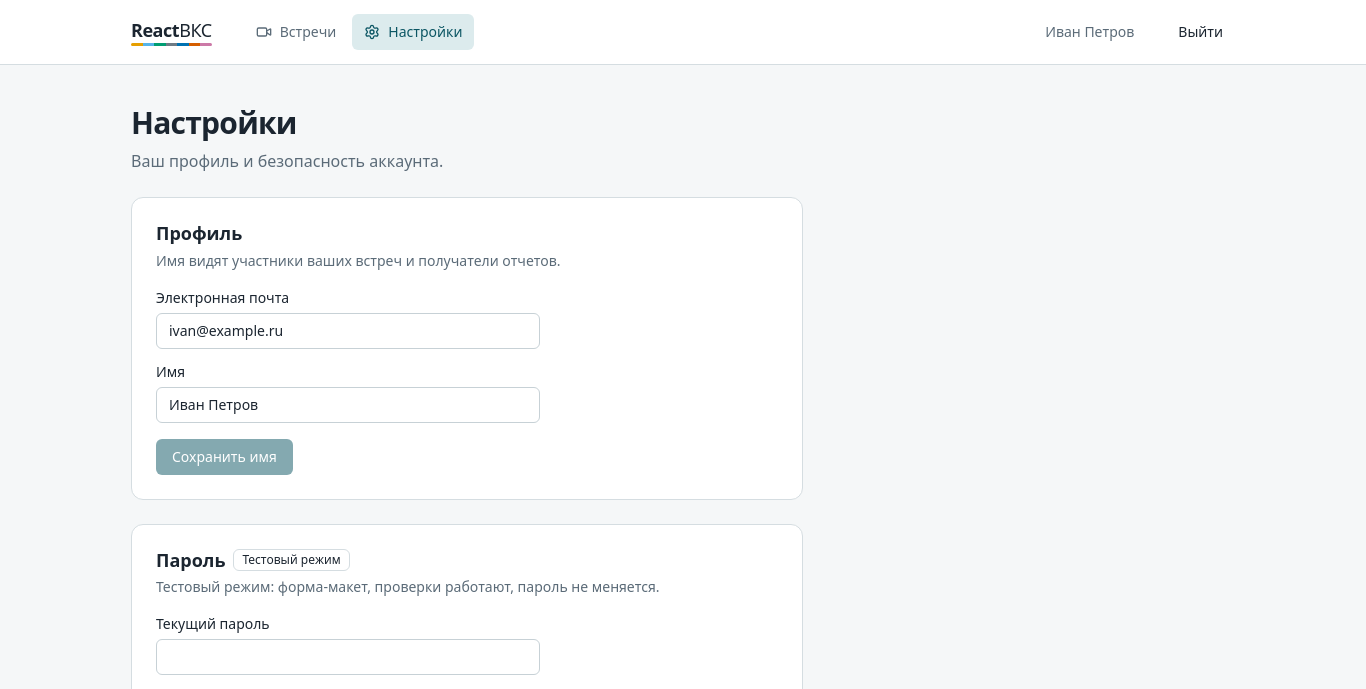
Test: профиль › PATCH /users/me меняет имя и обновляет шапку
Replace the text in the field labelled "Имя" with "Иван Сидоров" at (348, 404), box [156,386,540,422]
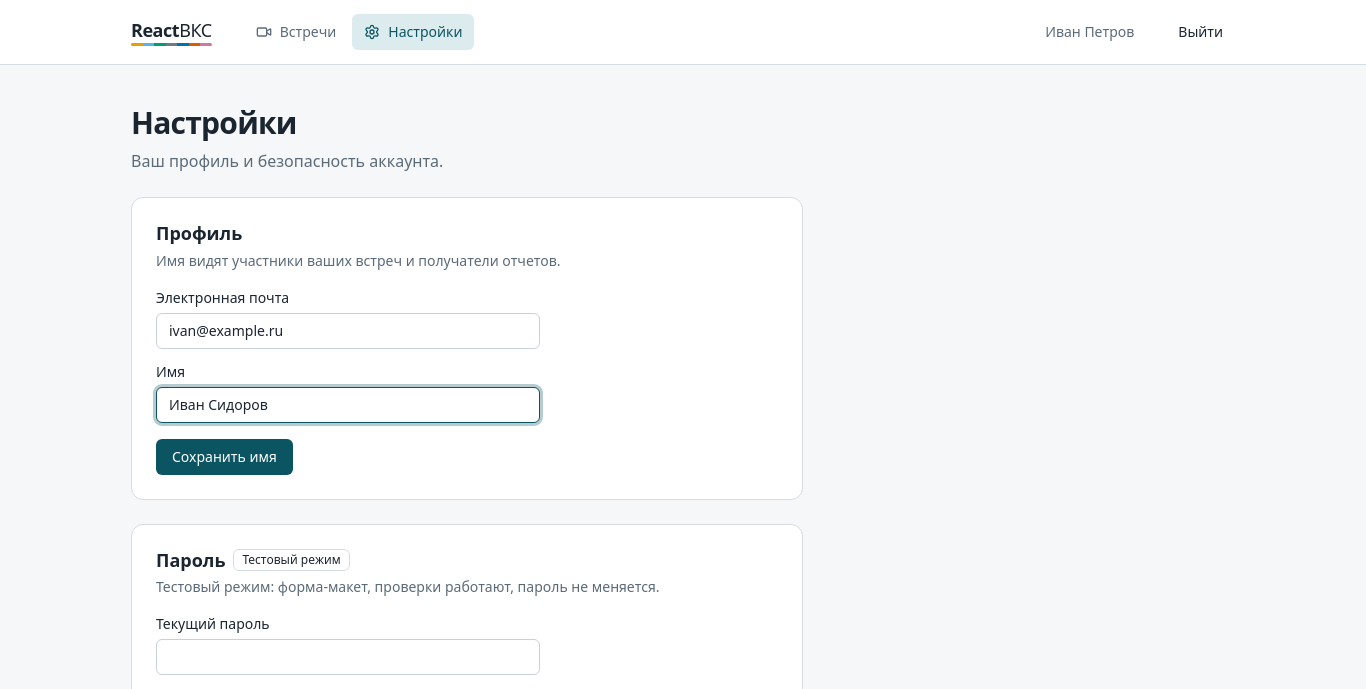
Click the button "Сохранить имя" at (224, 456), box [156,438,293,474]
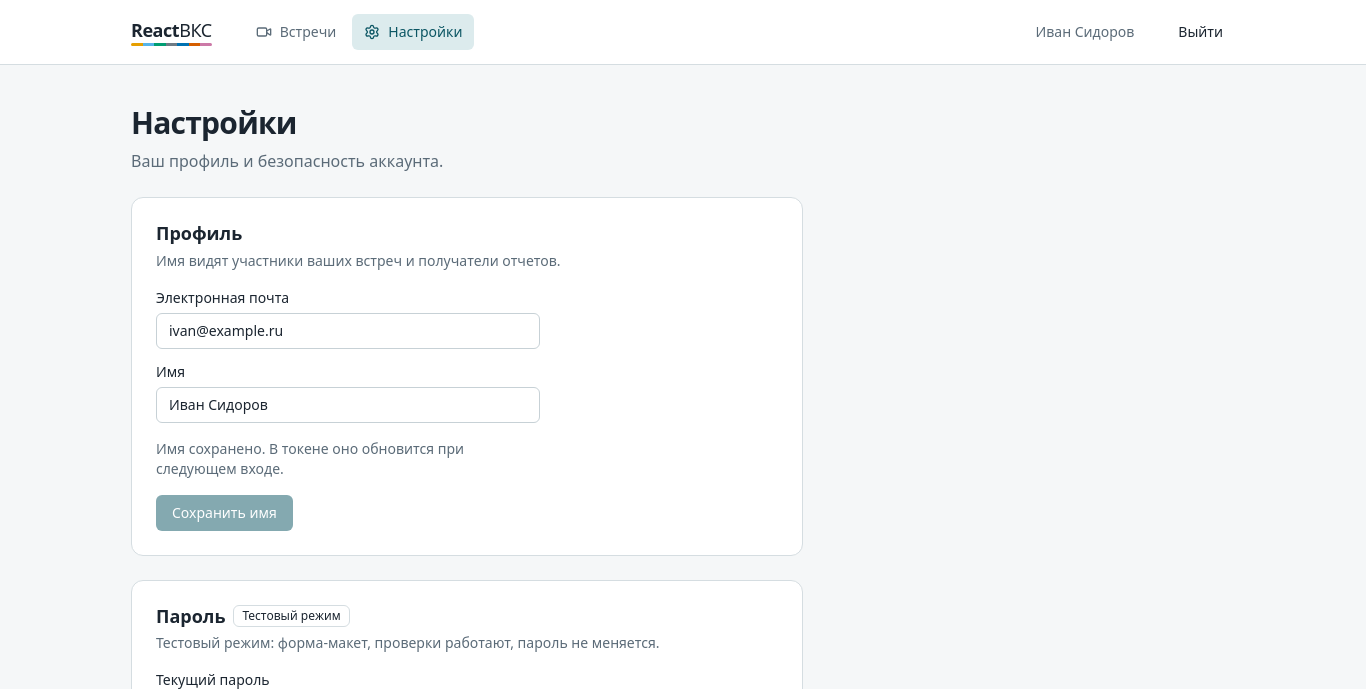
Expected: the text "Имя сохранено. В токене оно обновится при следующем входе." is shown, [156,438,464,478]
Expected: the text "Иван Сидоров" is shown, [1036,22,1134,42]
